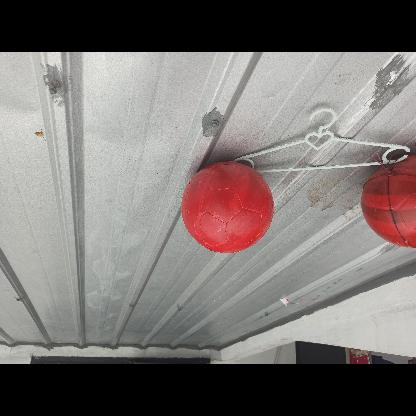red_ball: (182, 162, 274, 256)
